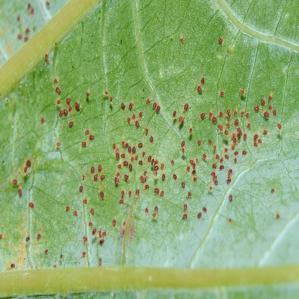spider mite: (46, 75, 286, 242)
